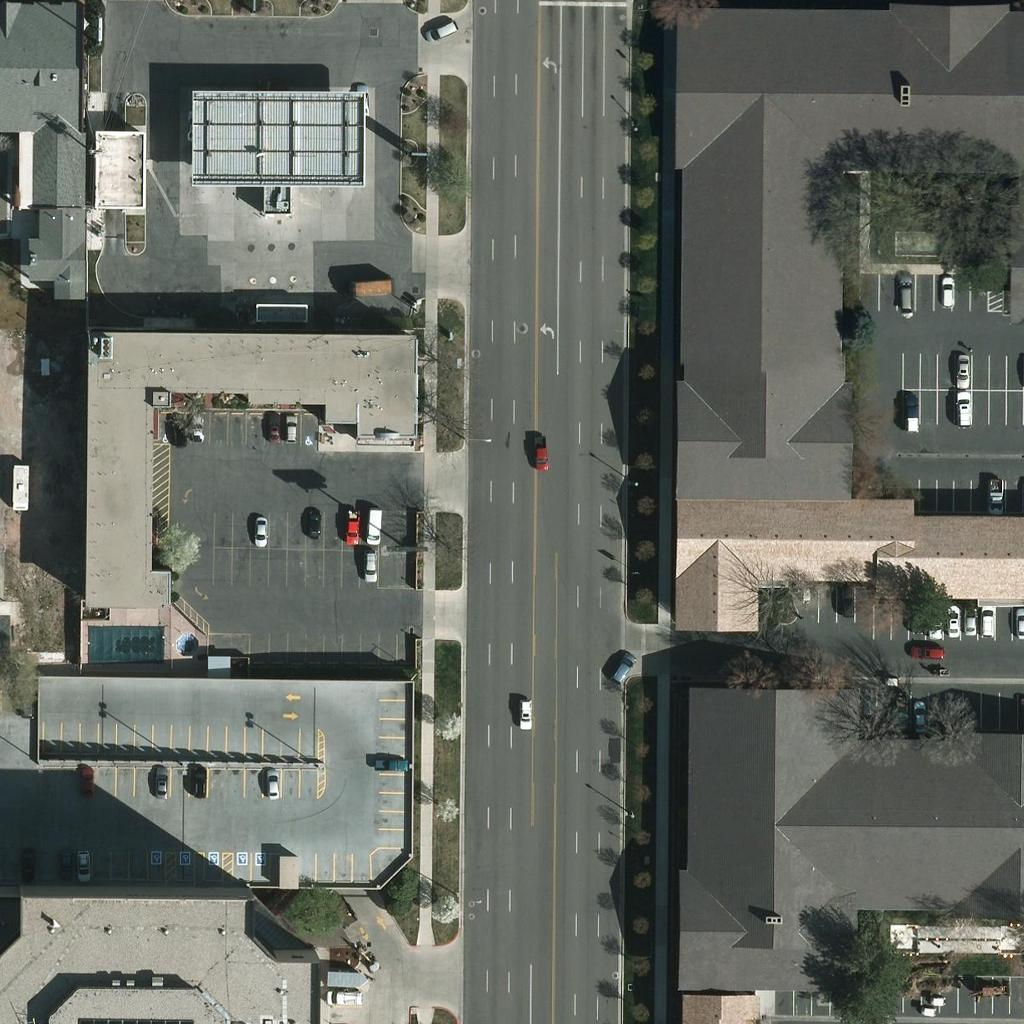car: (425, 13, 459, 47), (347, 85, 381, 119), (888, 275, 922, 309), (929, 276, 963, 310), (945, 351, 979, 385), (947, 390, 981, 424), (894, 392, 928, 426), (181, 409, 215, 443), (163, 412, 197, 446), (257, 412, 291, 446), (274, 415, 308, 449), (523, 437, 557, 471), (980, 480, 1014, 514), (296, 505, 330, 539), (355, 508, 389, 542), (334, 510, 368, 544), (243, 511, 277, 545), (352, 548, 386, 582), (830, 586, 864, 620), (934, 604, 968, 638), (970, 606, 1004, 640), (953, 608, 987, 642), (919, 611, 953, 645), (909, 635, 943, 669), (604, 652, 638, 686), (510, 694, 544, 728), (883, 700, 917, 734), (902, 700, 936, 734), (378, 746, 412, 780), (182, 763, 216, 797), (145, 766, 179, 800), (255, 766, 289, 800), (69, 768, 103, 802), (10, 844, 44, 878), (11, 844, 45, 878), (68, 844, 102, 878), (49, 847, 83, 881), (323, 979, 357, 1013), (1005, 610, 1024, 644)
